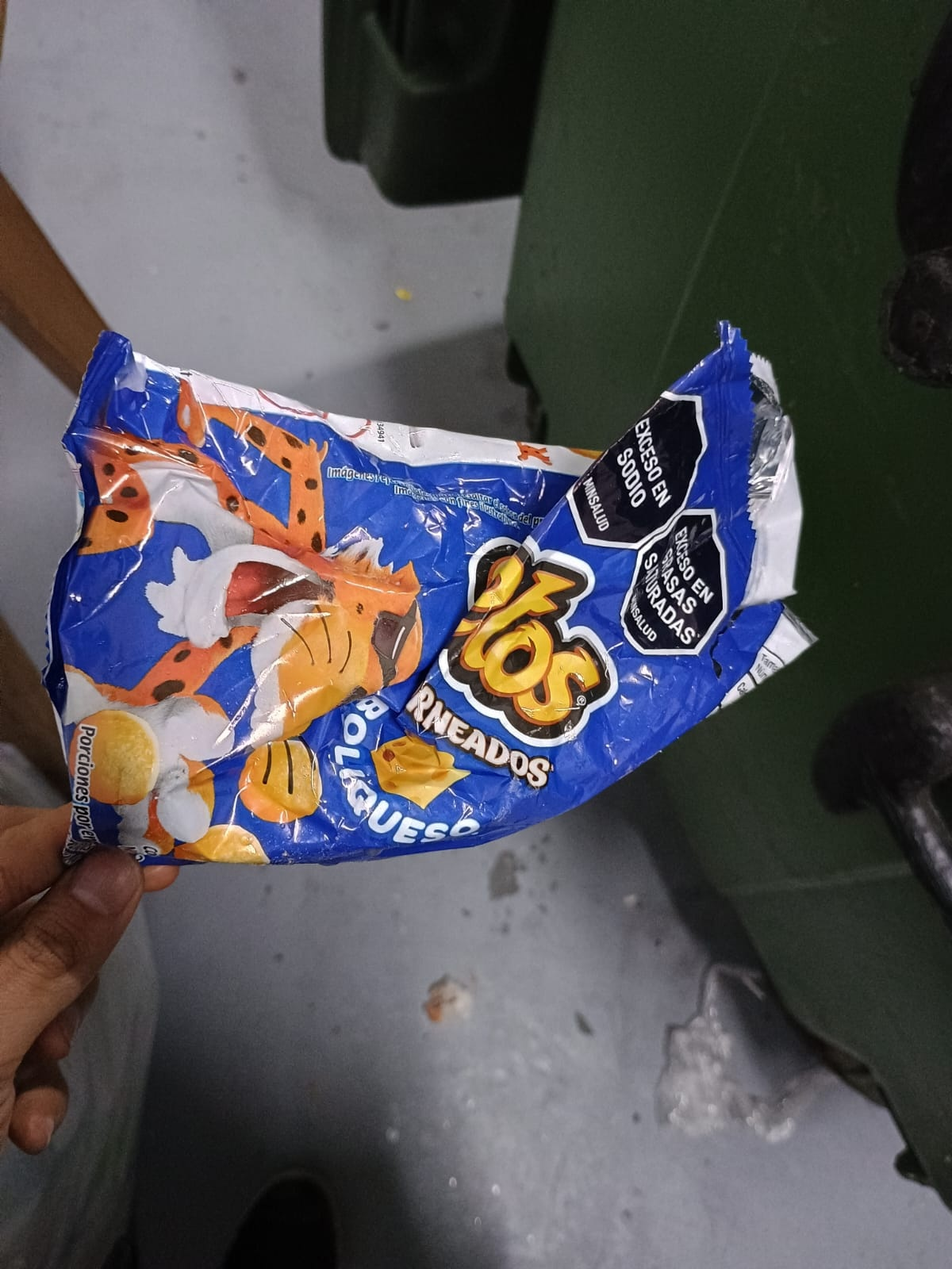Ordinario: (48, 322, 816, 867)
